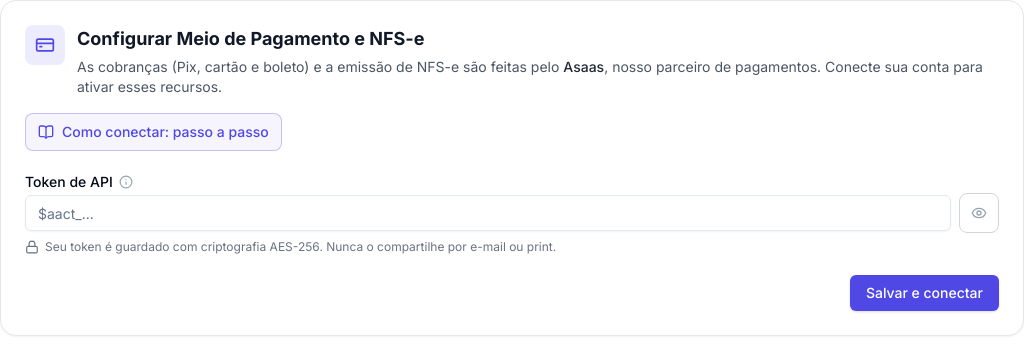
Test case: PaymentForm › submit envia POST e mostra o estado conectado
Step 1. Type "$aact_prod_teste_4821" into the password field with placeholder "$aact_..." → point(488, 213), box left=25, top=195, right=951, bottom=231
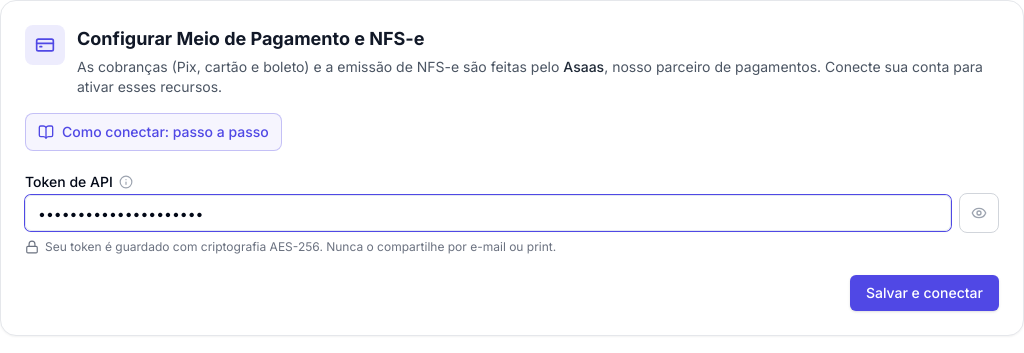
Step 2. Click the button "Salvar e conectar" → point(924, 293), box left=850, top=275, right=999, bottom=311
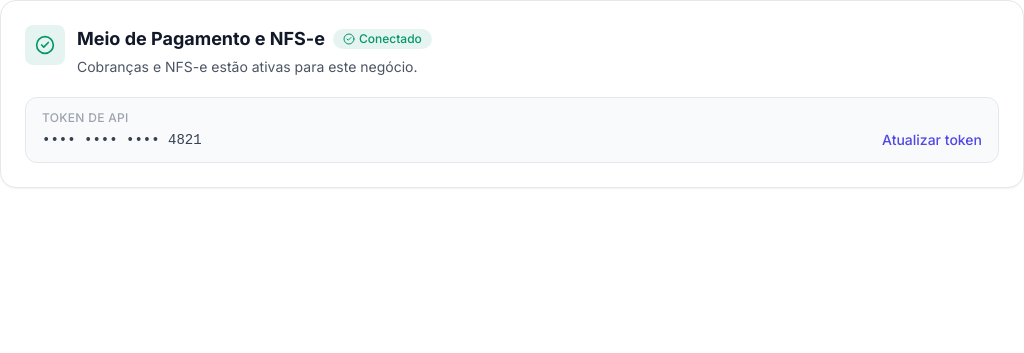
Now the text "Conectado" is shown, box left=333, top=29, right=432, bottom=49
Now the text "•••• •••• •••• 4821" is shown, box left=42, top=130, right=202, bottom=150
